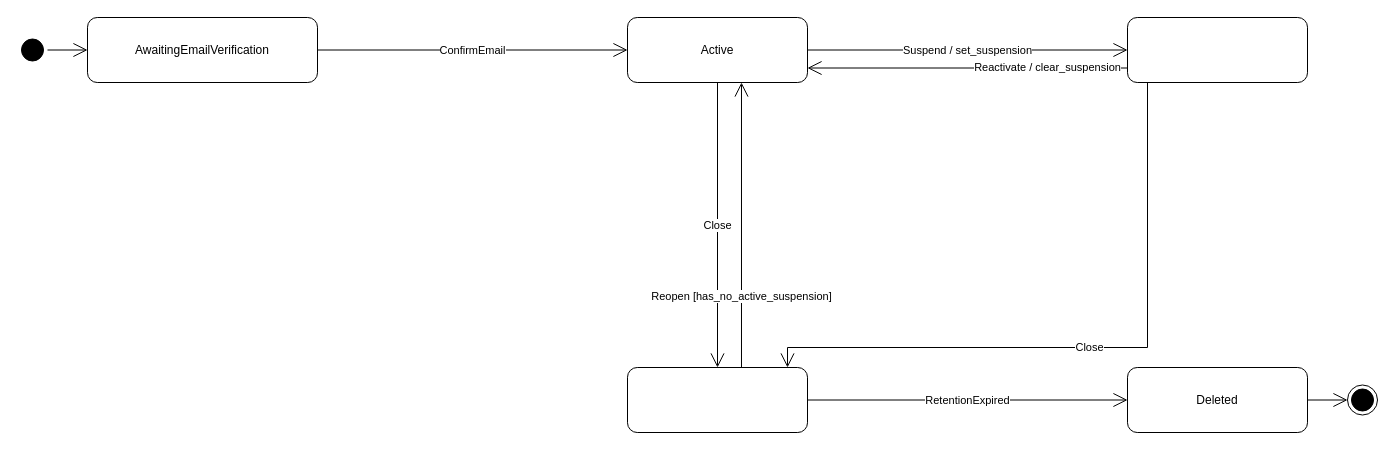
Some shapes in this 1395 by 450 pixel diagram are drawn without their labels. Each missing label, with the centre of its shape:
Closed: pixel 717 399
Suspended: pixel 1217 49
